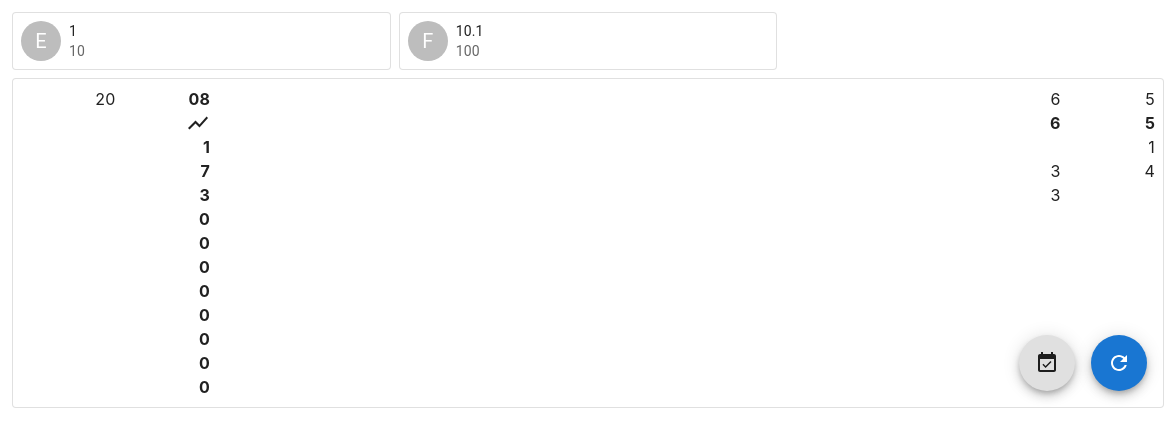
Test: renders short levels filter by lang
Click the button "E 1 10" at [41, 41], box [13,13,390,69]
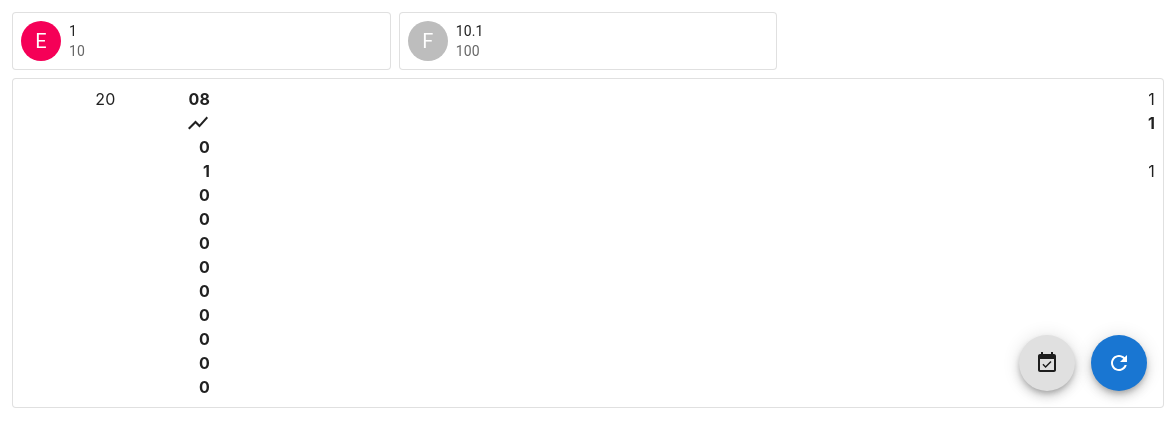
Check: the text with test id "M-2008-9" reads "1", box [1148,89,1155,109]
Check: the text with test id "S-9" reads "1", box [1148,113,1155,133]
Check: the element with test id "D-0" reads "0", box [199,137,210,157]
Click the button "F 10.1 100" at [428, 41], box [400,13,776,69]
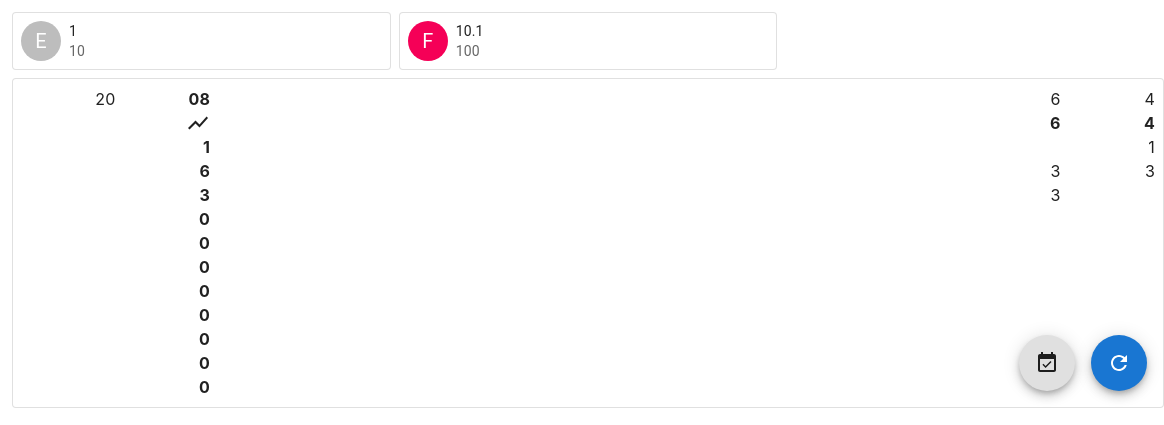
Check: the text with test id "M-2008-8" reads "6", box [1050,89,1060,109]
Check: the text with test id "M-2008-9" reads "4", box [1144,89,1155,109]
Check: the text with test id "S-8" reads "6", box [1050,113,1060,133]
